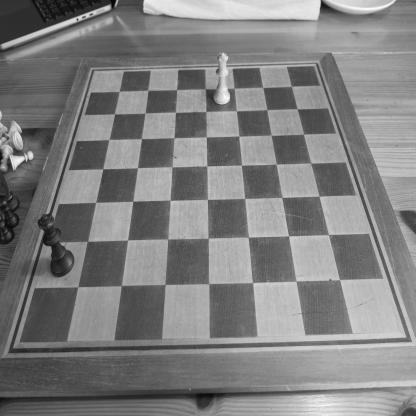black-pawn: (0, 197, 20, 230), (1, 213, 15, 246)
black-queen: (37, 211, 75, 278)
white-pawn: (8, 150, 34, 172), (0, 144, 14, 174)
white-queen: (213, 51, 231, 106)
